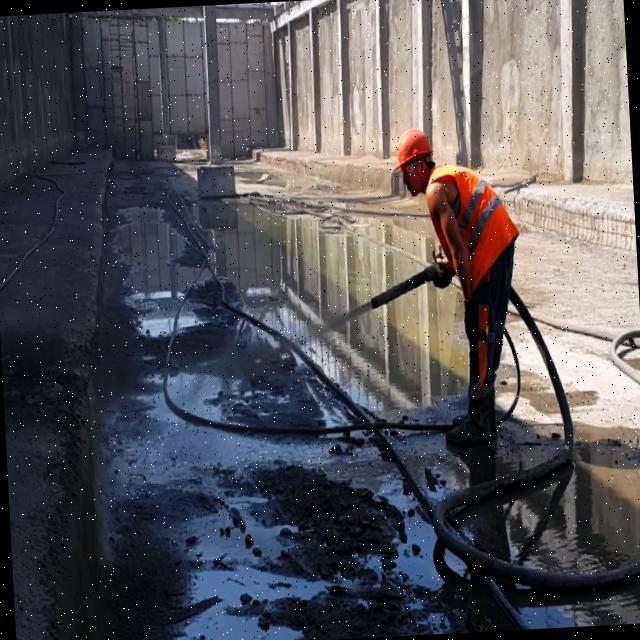Helmet: (394, 131, 437, 175)
Jacket: (427, 166, 514, 268)
